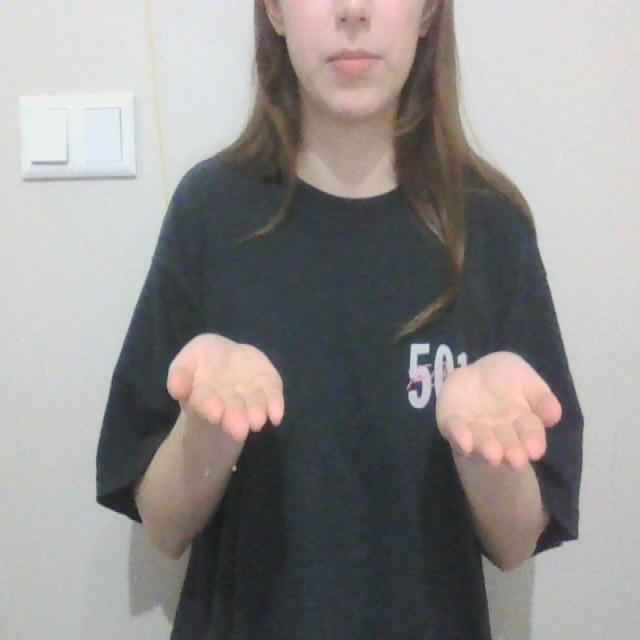Evet: (163, 328, 569, 479)
